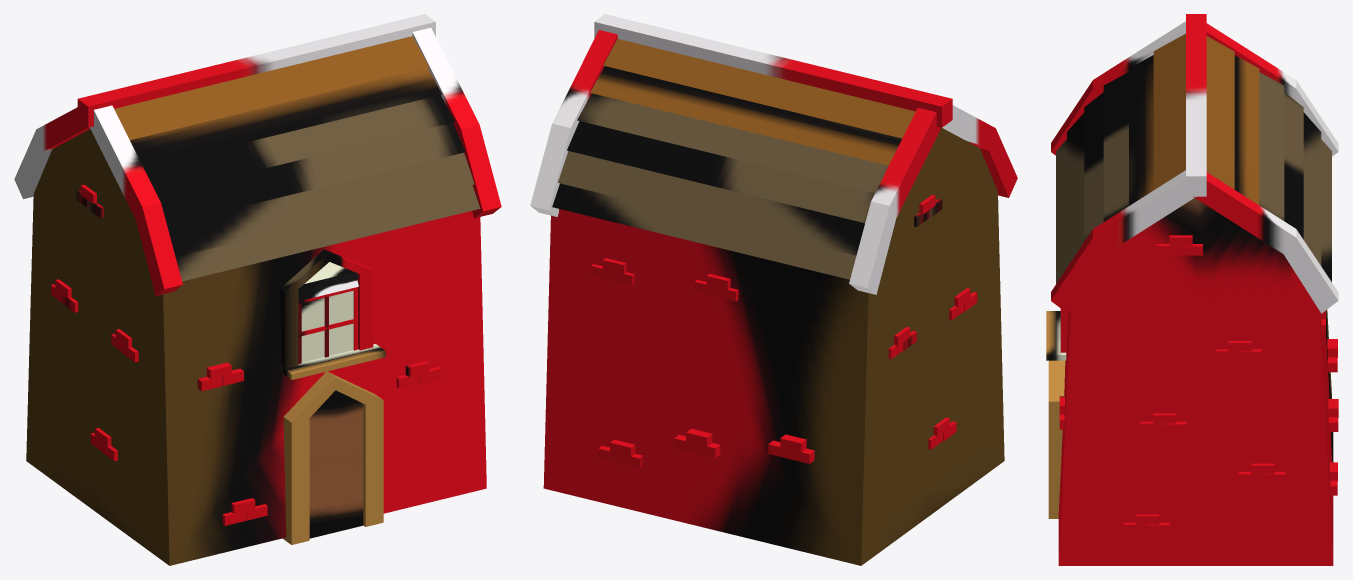
Rendered from house2.FBX.
The picture shows the model from 3 angles, left to right: view 1: azimuth 30°, elevation 25°; view 2: azimuth 150°, elevation 25°; view 3: azimuth 270°, elevation 25°; orthographic projection. The views are drawn at different scales.
Visible parts, largest first — view 1: Plane006; view 2: Plane006; view 3: Plane006.
Part boxes in pixels (x1,y1,x2,y2): Plane006: (14,14,501,565); Plane006: (530,14,1017,565); Plane006: (1046,14,1338,565).
Bounding box in the file's own units: 11.53 × 13.25 × 8.76.
